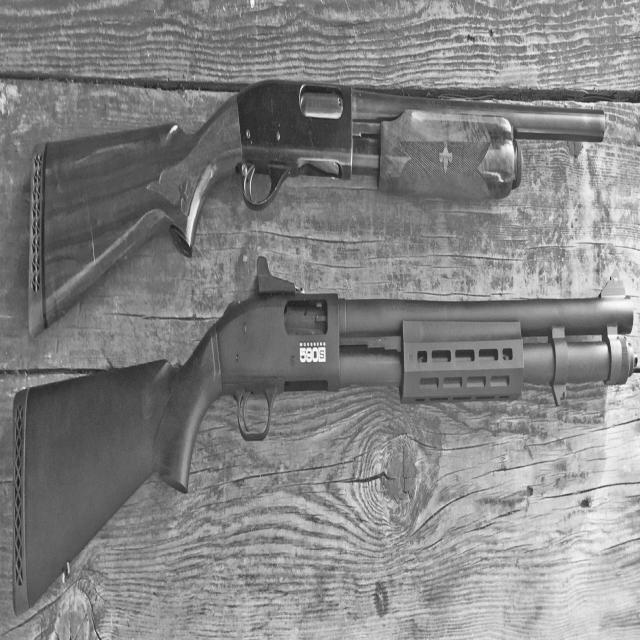Short-Gun: (4, 283, 632, 631), (24, 68, 610, 244)
